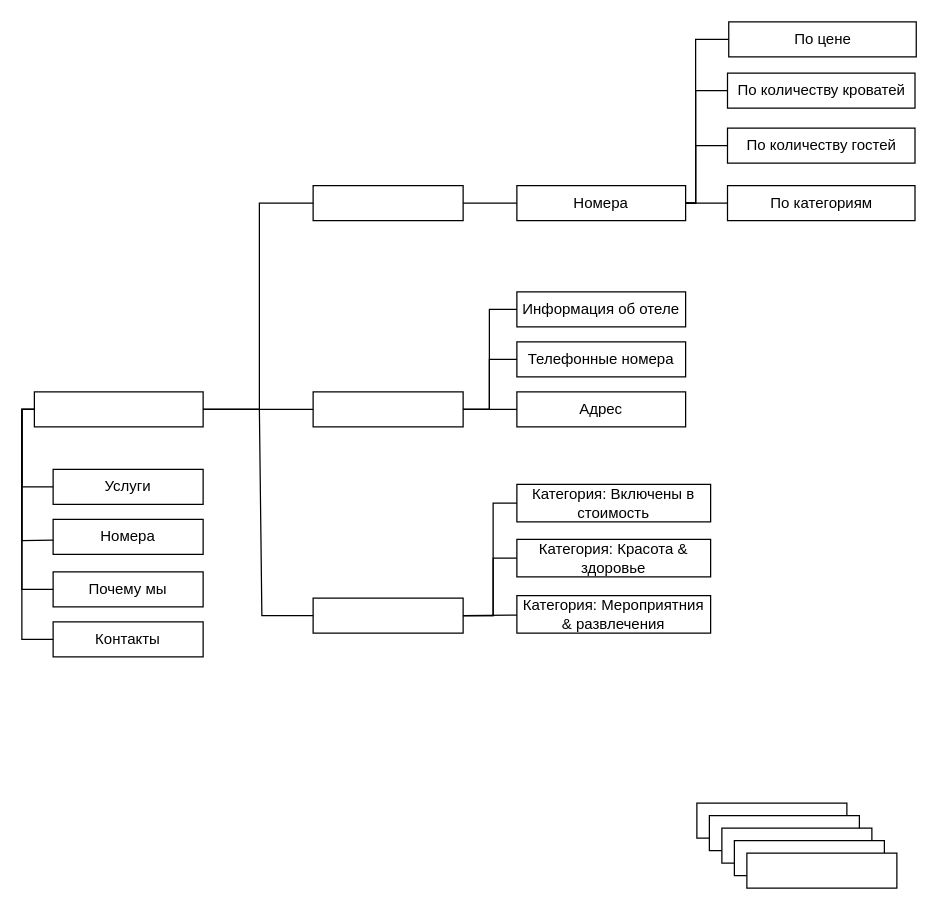
This 939x910 diagram has some shape labels left out. The centre of each missing label's shape, as x and y in pixels:
Раздел: Каталог: [387,202]
Раздел: Контакты: [387,409]
Раздел: Услуги: [387,615]
Стартовая страница: [118,409]
